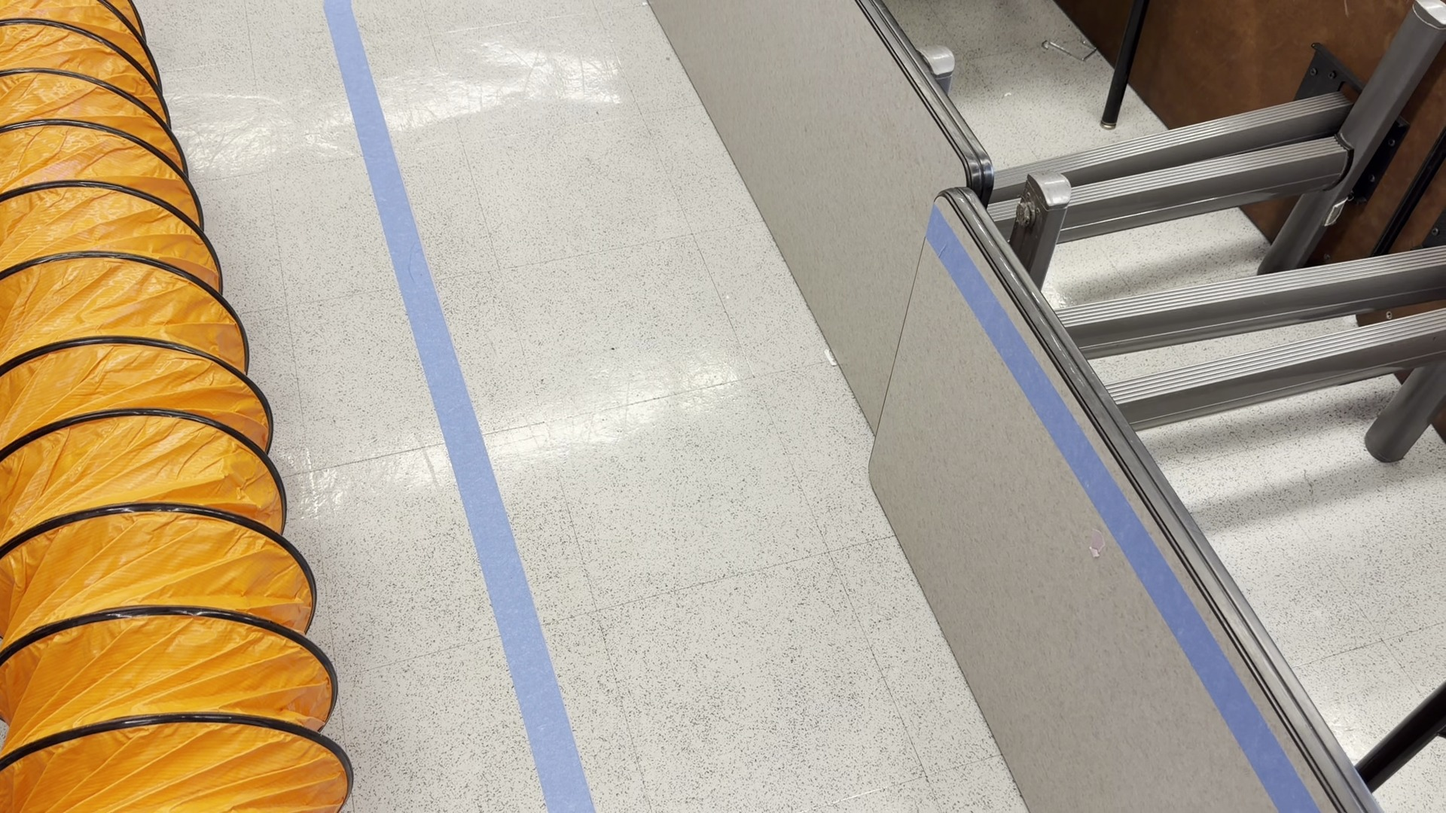racecar: (657, 3, 1444, 813)
